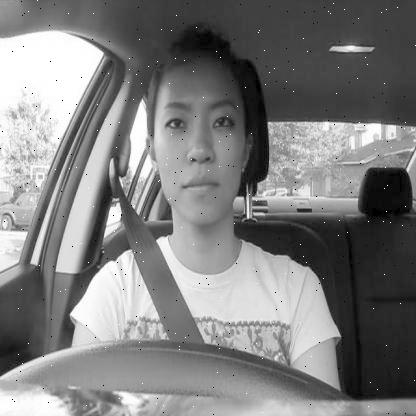seatbelt: (103, 26, 264, 346)
